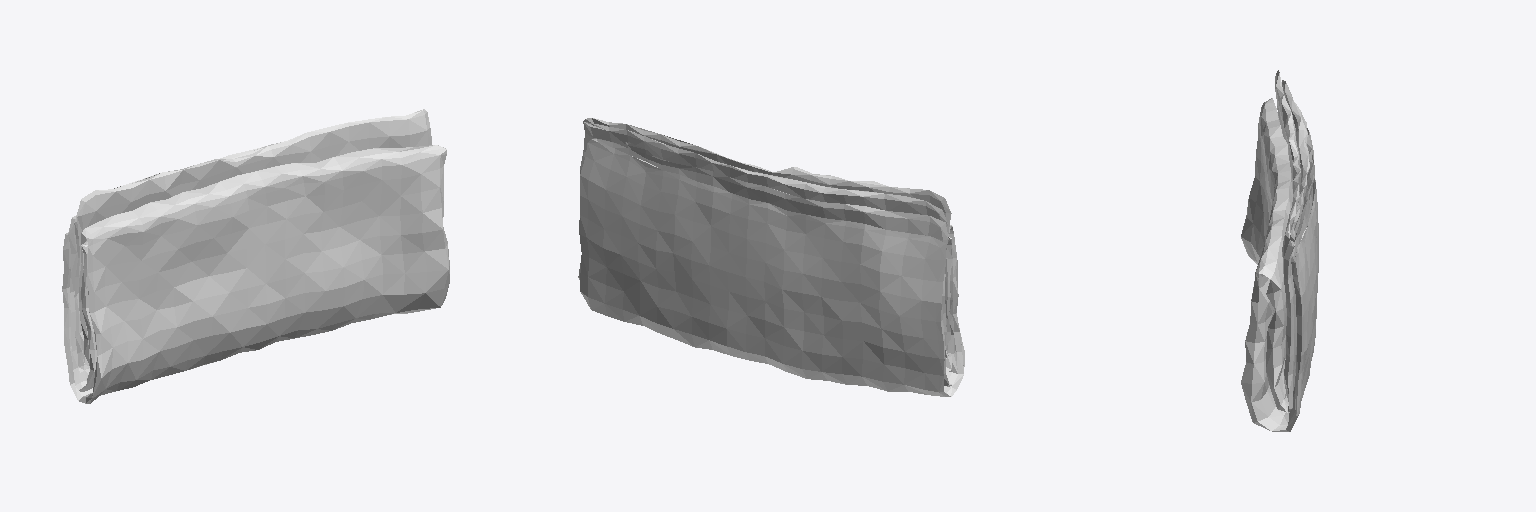
Rendered from Napkin Cloth BB.obj.
3 views of the same model, side by side, from view 1: azimuth 30°, elevation 25°; view 2: azimuth 150°, elevation 25°; view 3: azimuth 270°, elevation 25° (orthographic).
Parts seen in each view (by area): view 1: Napkin Cloth BB; view 2: Napkin Cloth BB; view 3: Napkin Cloth BB.
Boxes of the visible parts, box(x1,y1,x2,y2) form: Napkin Cloth BB: box(62, 109, 449, 403); Napkin Cloth BB: box(578, 118, 964, 396); Napkin Cloth BB: box(1241, 70, 1318, 431).
Size of the model in its own units: 0.2017 by 0.1092 by 0.0369.